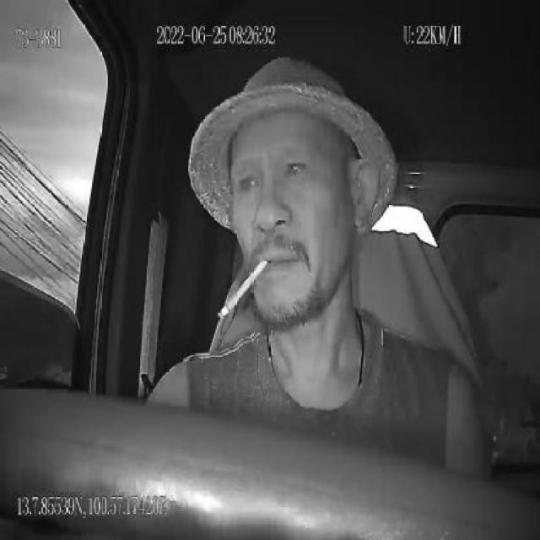smoking: (219, 257, 268, 321)
